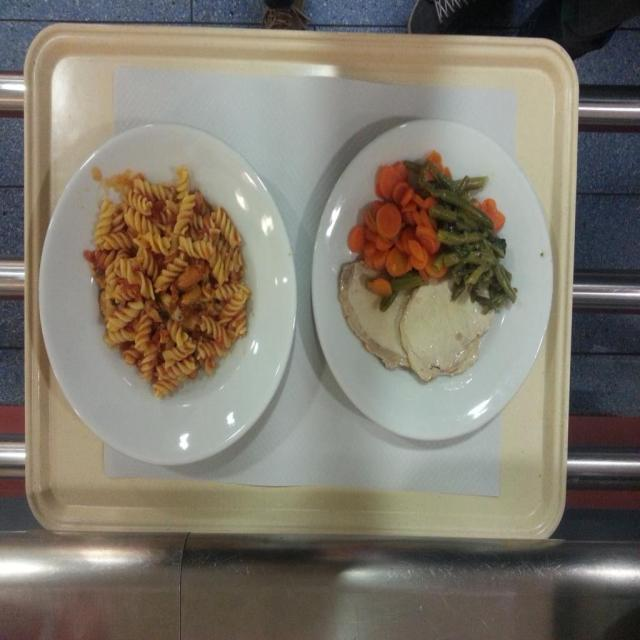plate: (36, 120, 297, 470), (311, 115, 552, 448)
